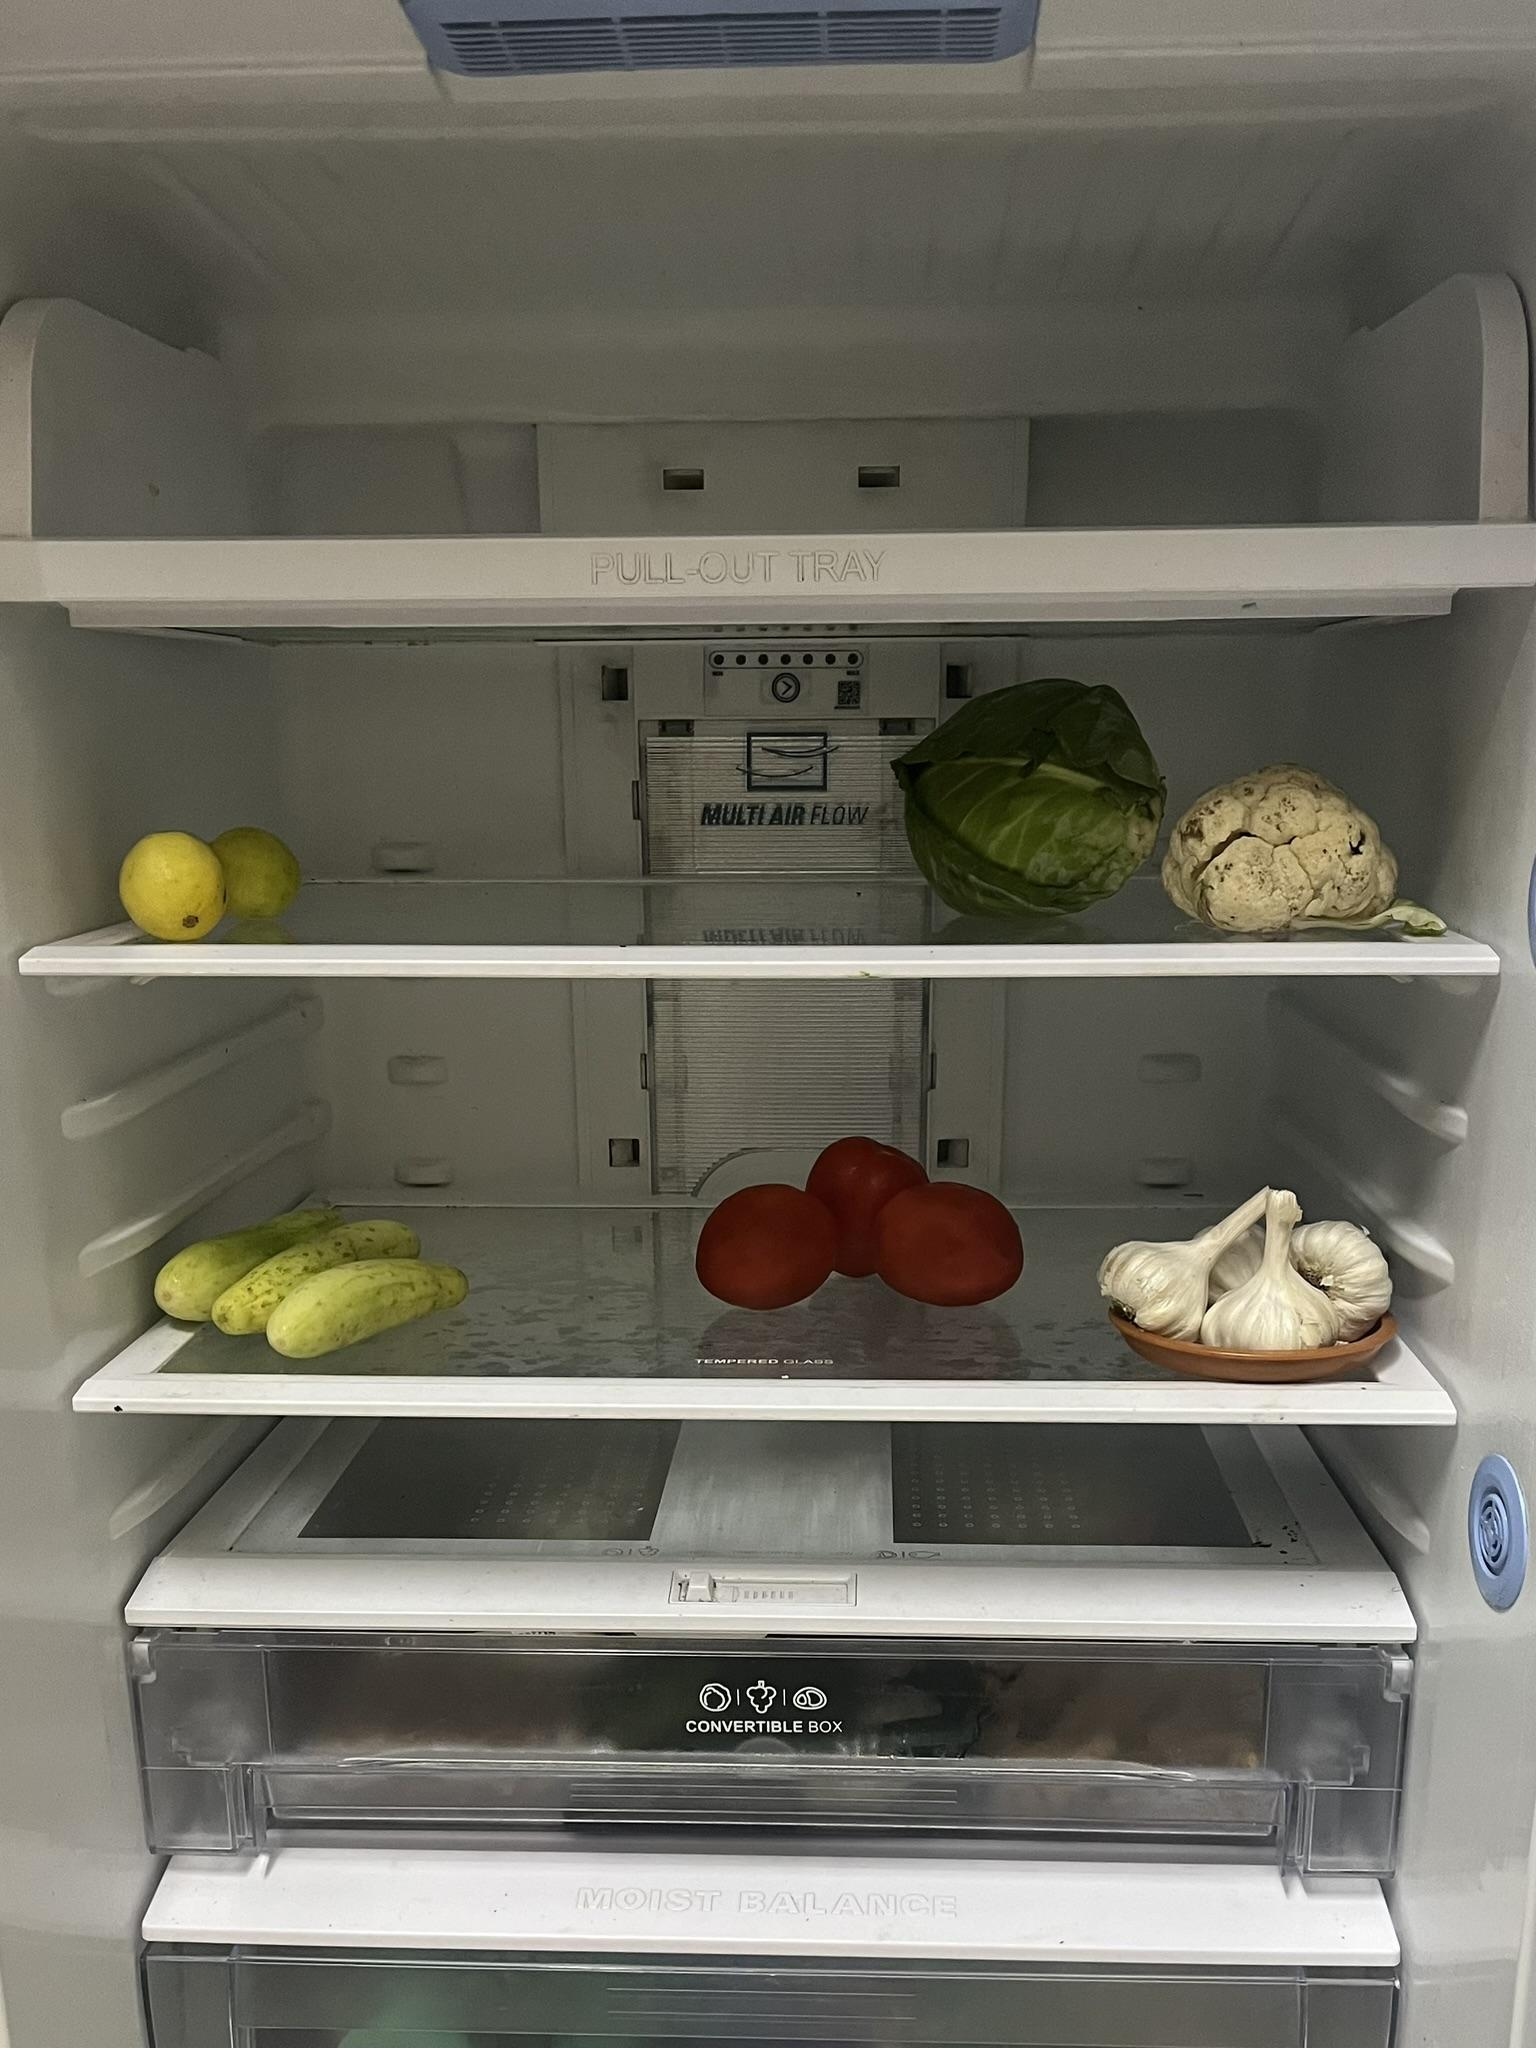cabbage: (891, 674, 1173, 924)
cauliflower: (1170, 763, 1394, 924)
cucumber: (153, 1200, 453, 1356)
garlic: (1110, 1184, 1397, 1347)
lemon: (123, 827, 307, 953)
tomato: (691, 1134, 1016, 1316)
